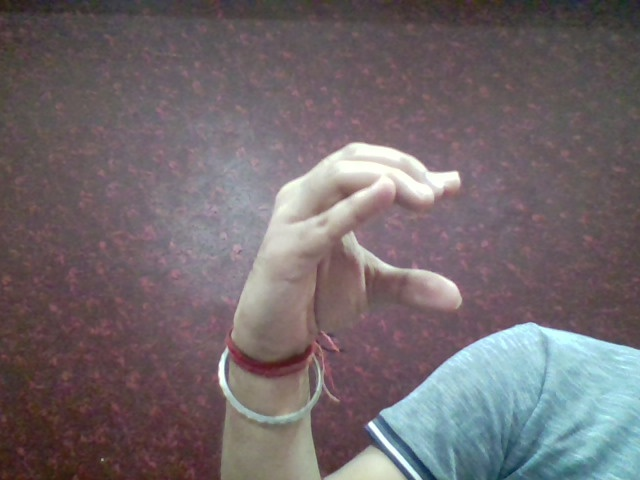c: (238, 136, 480, 333)
